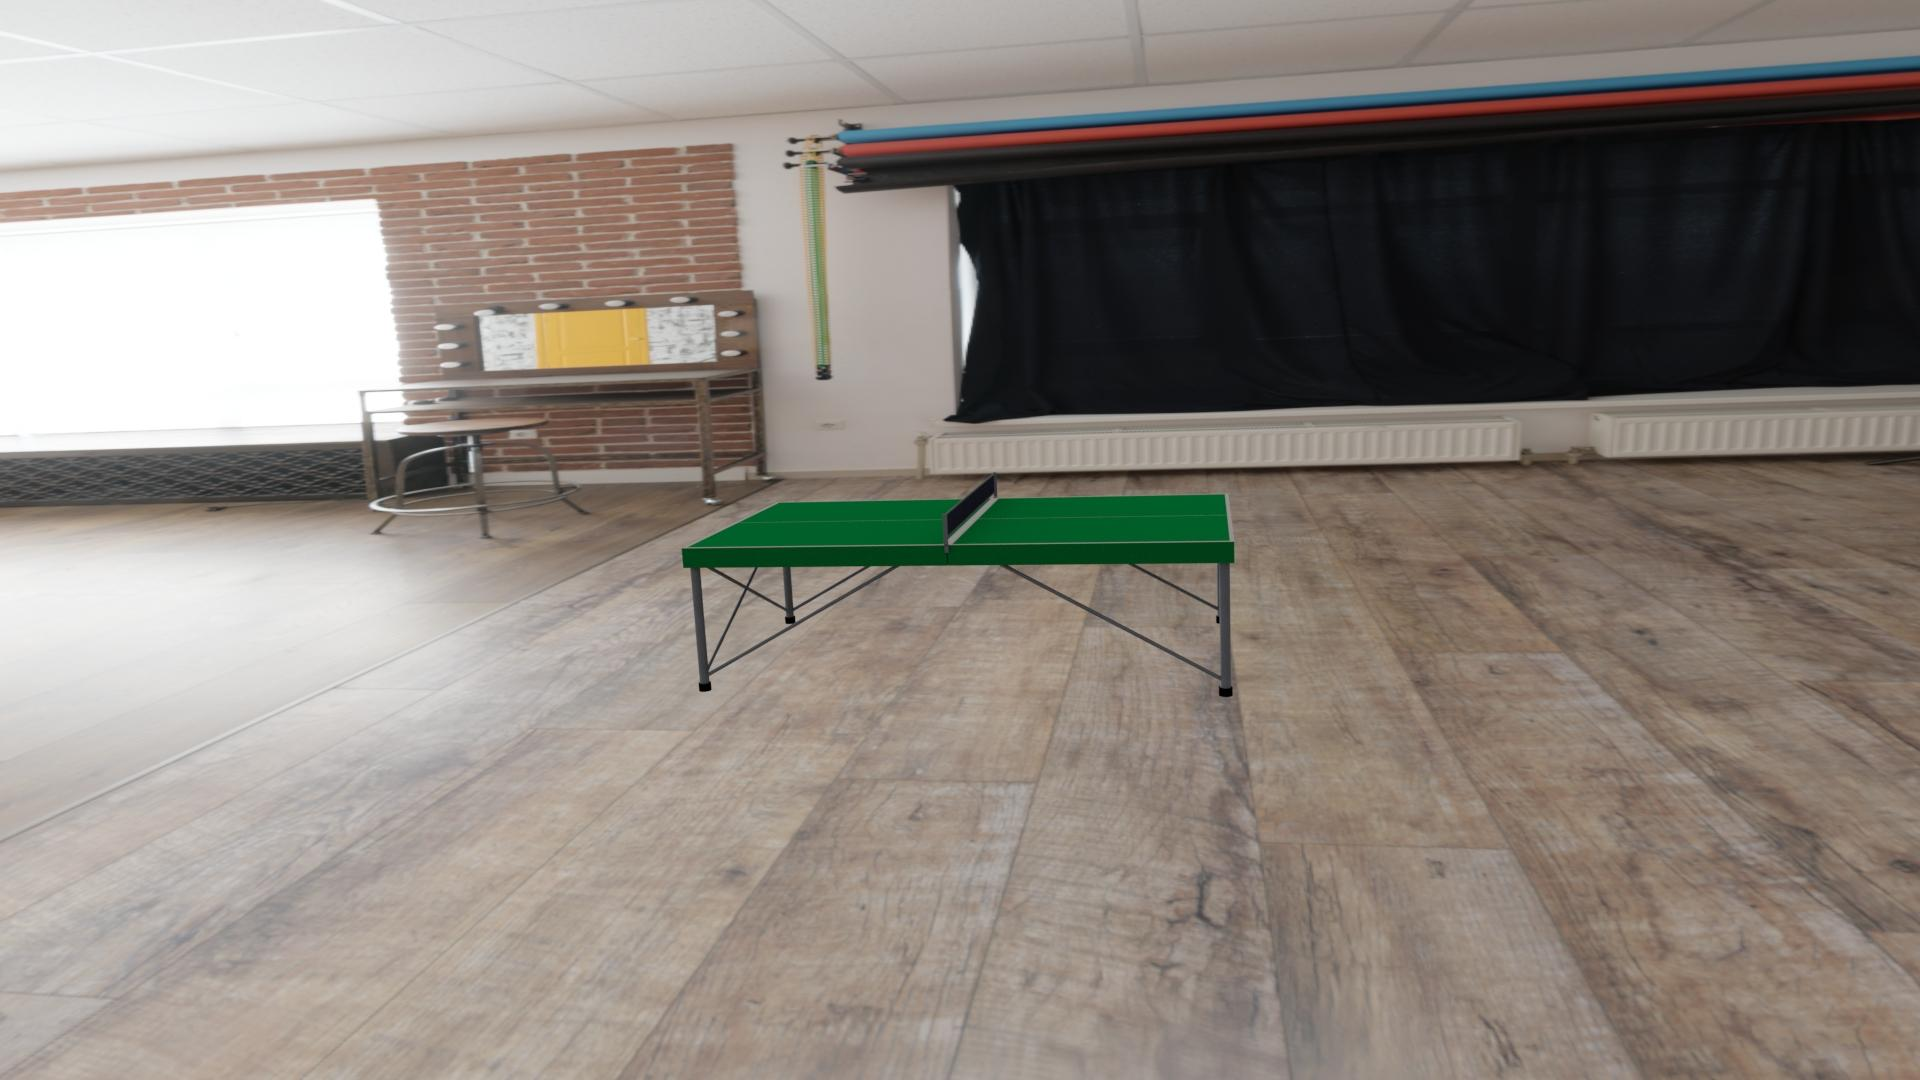table: (687, 495, 1230, 547)
